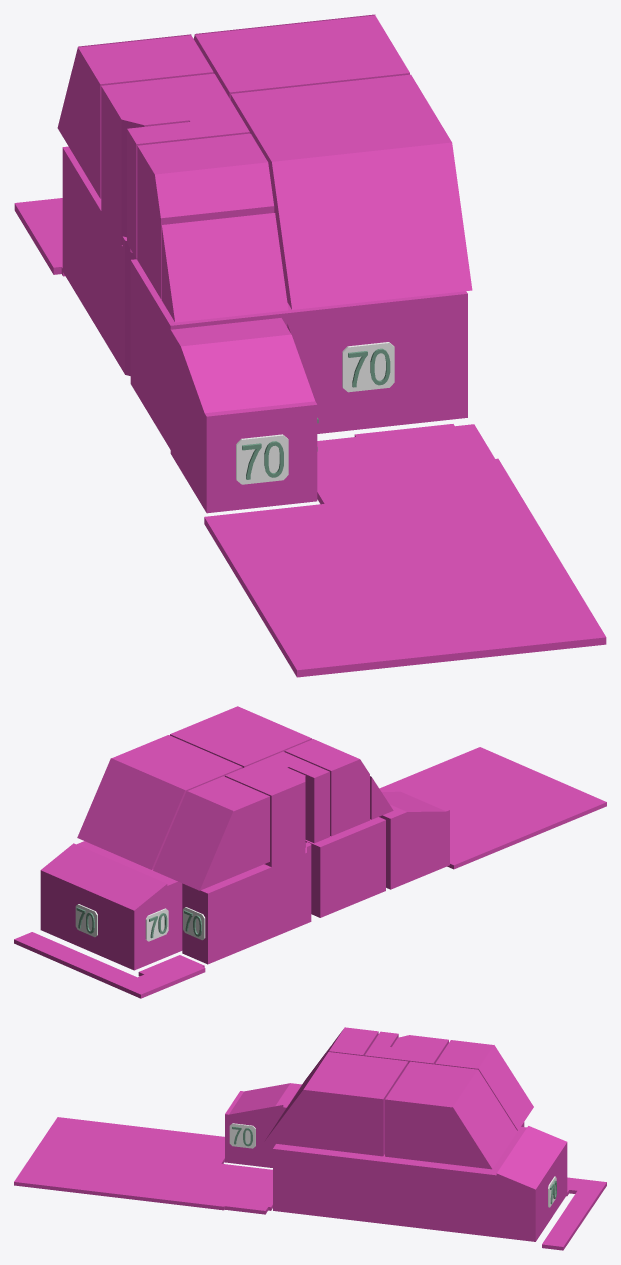
3 renders of one model, top to bottom at view 1: azimuth 30°, elevation 25°; view 2: azimuth 150°, elevation 25°; view 3: azimuth 270°, elevation 25°, orthographic. The views are drawn at different scales.
Visible parts, largest first — view 1: g_14, g_7, g_0, g_5, g_6, g_8, g_12, g_9, g_10, g_11, g_4, g_2 (+3 smaller); view 2: g_14, g_1, g_8, g_9, g_4, g_0, g_5, g_7, g_6, g_2, g_10, g_11 (+6 smaller); view 3: g_1, g_14, g_8, g_7, g_0, g_5, g_9, g_13, g_10, g_6, g_11, g_15 (+1 smaller).
Boxes of the visible parts, x1,y1,x2,y2 form: g_14: (204, 424, 606, 677); g_7: (230, 74, 472, 309); g_0: (130, 259, 467, 449); g_5: (170, 318, 317, 513); g_6: (137, 133, 274, 298); g_8: (193, 14, 409, 99); g_12: (161, 213, 288, 322); g_9: (57, 34, 213, 198); g_10: (127, 73, 249, 258); g_11: (101, 81, 189, 235); g_4: (62, 146, 101, 332); g_2: (100, 202, 136, 375); g_14: (379, 747, 606, 869); g_1: (40, 841, 182, 970); g_8: (77, 735, 242, 869); g_9: (153, 776, 269, 890); g_4: (182, 865, 269, 964); g_0: (305, 817, 385, 917); g_5: (379, 790, 449, 889); g_7: (170, 706, 312, 767); g_6: (284, 739, 369, 836); g_2: (263, 842, 311, 938); g_10: (225, 751, 329, 843); g_11: (253, 767, 305, 861); g_1: (351, 1126, 567, 1241); g_14: (14, 1117, 272, 1214); g_8: (385, 1061, 517, 1169); g_7: (264, 1052, 408, 1156); g_0: (273, 1144, 354, 1219); g_5: (225, 1083, 301, 1167); g_9: (435, 1040, 533, 1130); g_13: (542, 1191, 599, 1250); g_10: (364, 1031, 442, 1064); g_6: (318, 1027, 378, 1065); g_11: (392, 1035, 448, 1051); g_15: (566, 1177, 606, 1196).
Bounding box in the file's own units: 11.57 × 5.36 × 22.3.
